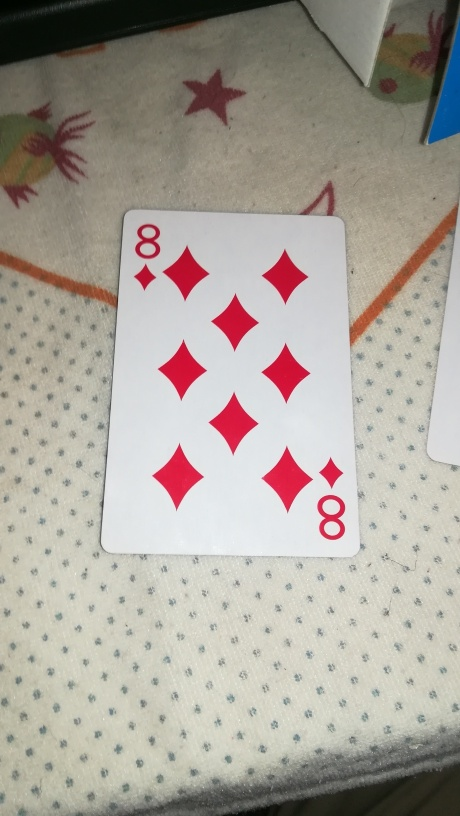fk 8: (101, 208, 367, 562)
